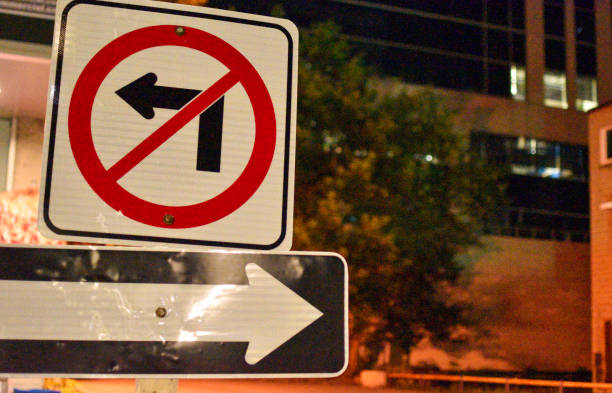sola_girilmez: (71, 26, 278, 235)
